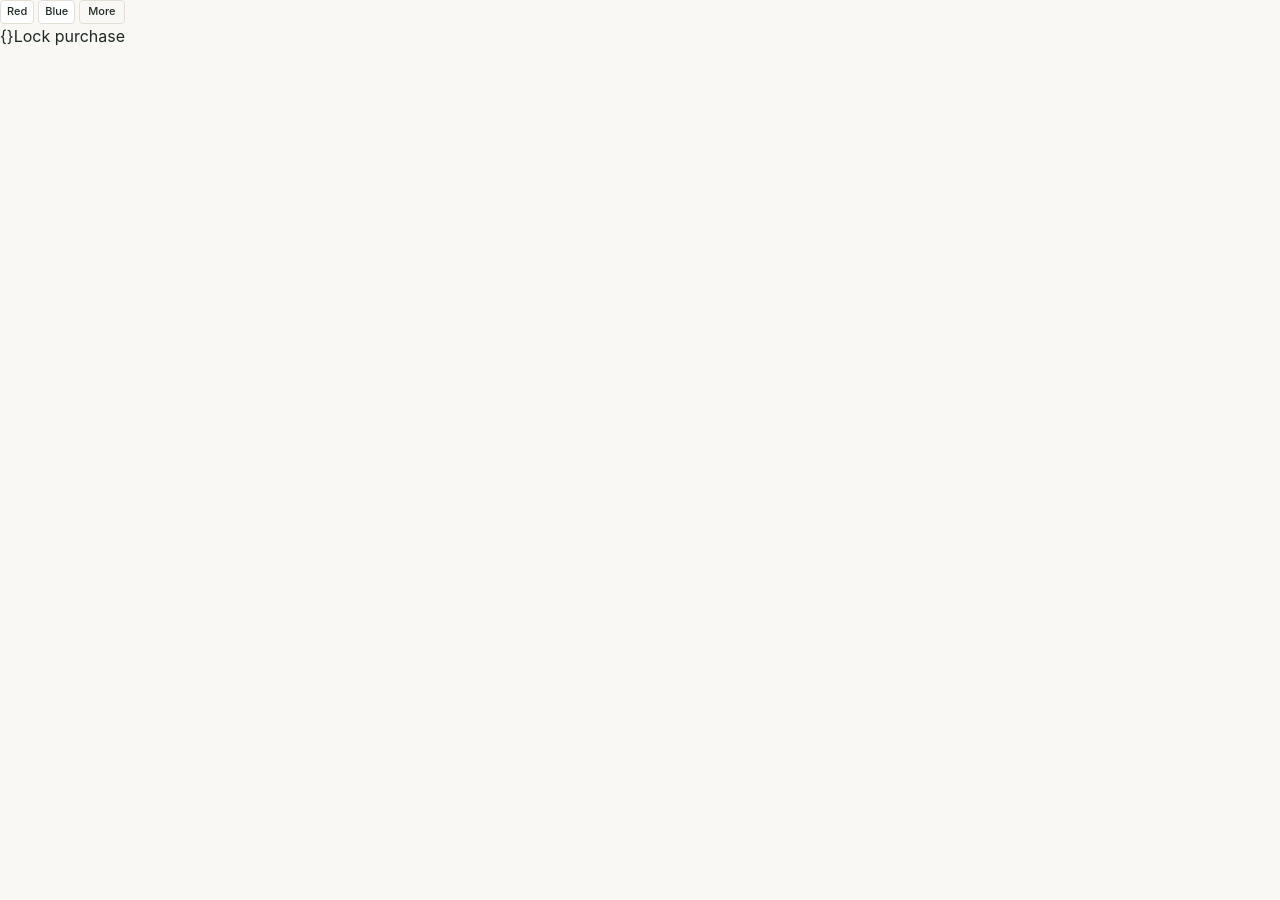
Test: ProductCardVariantSelector › compact: keeps both dimensions selectable in More without guessing a SKU
Click the button with aria-label "More options" at [102, 12], box [79,0,124,24]
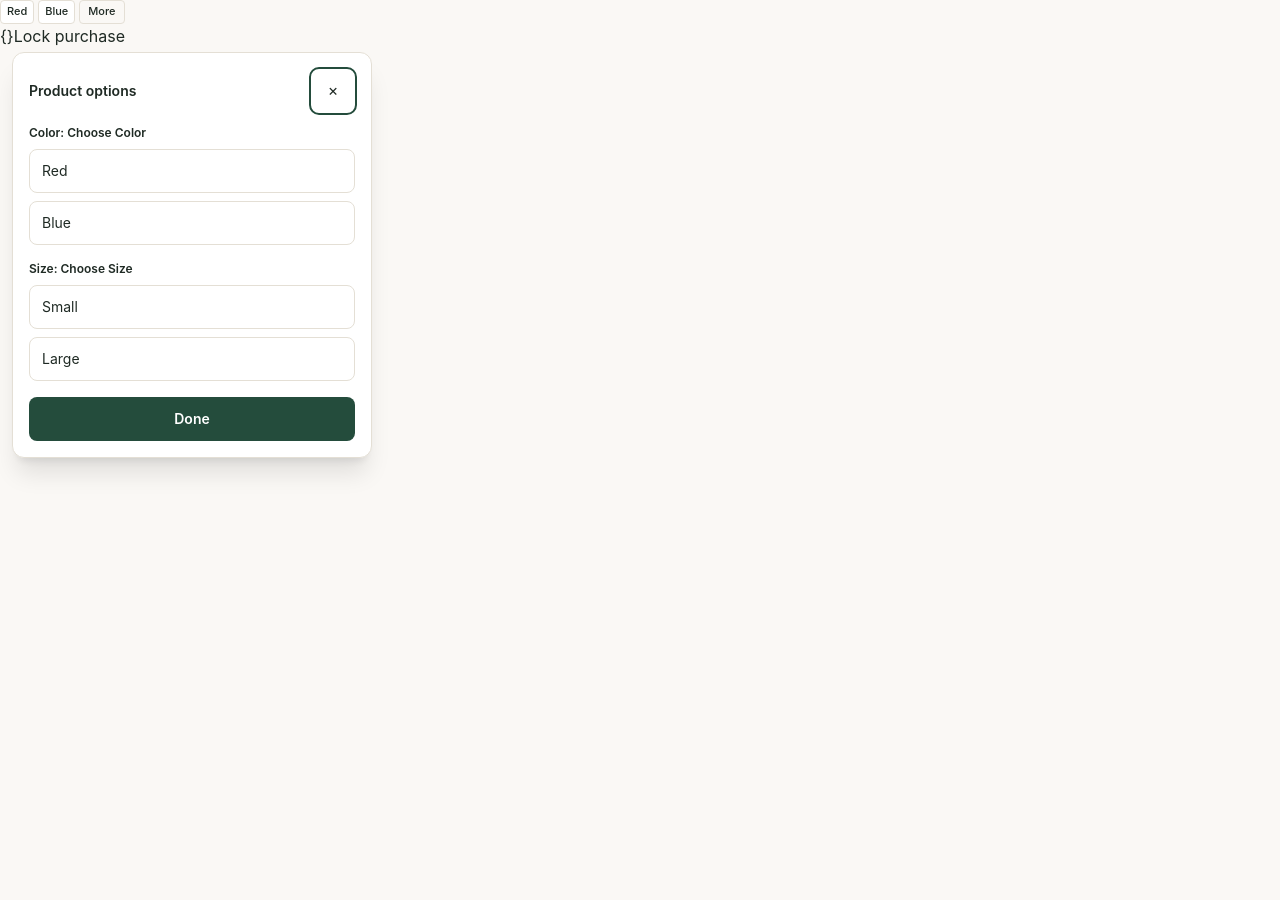
Click the button "Red" at [55, 170], box [29,149,355,193]
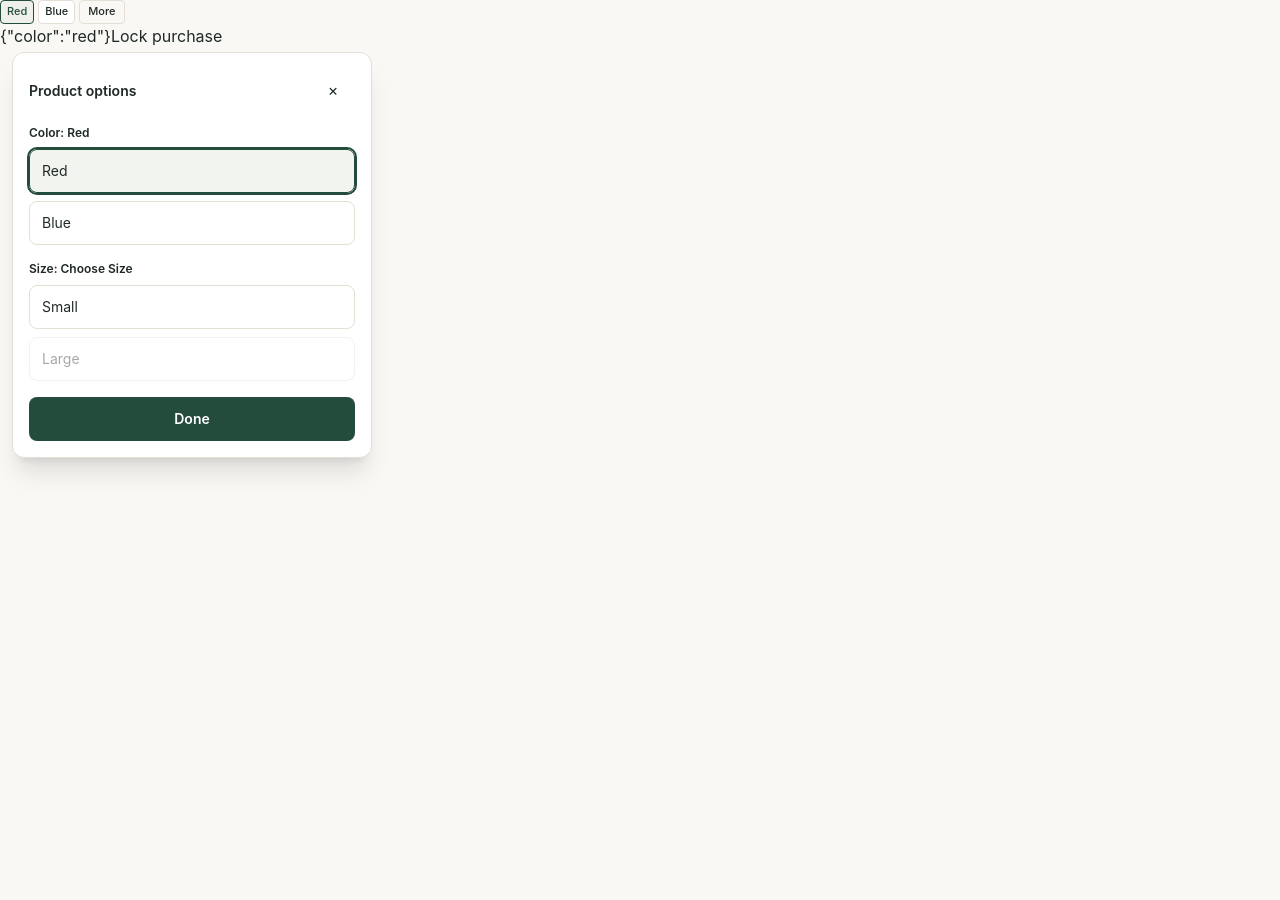
Result: the text with test id "selection" reads "{\"color\":\"red\"}" at [0,26,111,46]
Result: the button "Large" is disabled at [29,337,355,381]
Click the button "Small" at [60, 306], box [29,285,355,329]
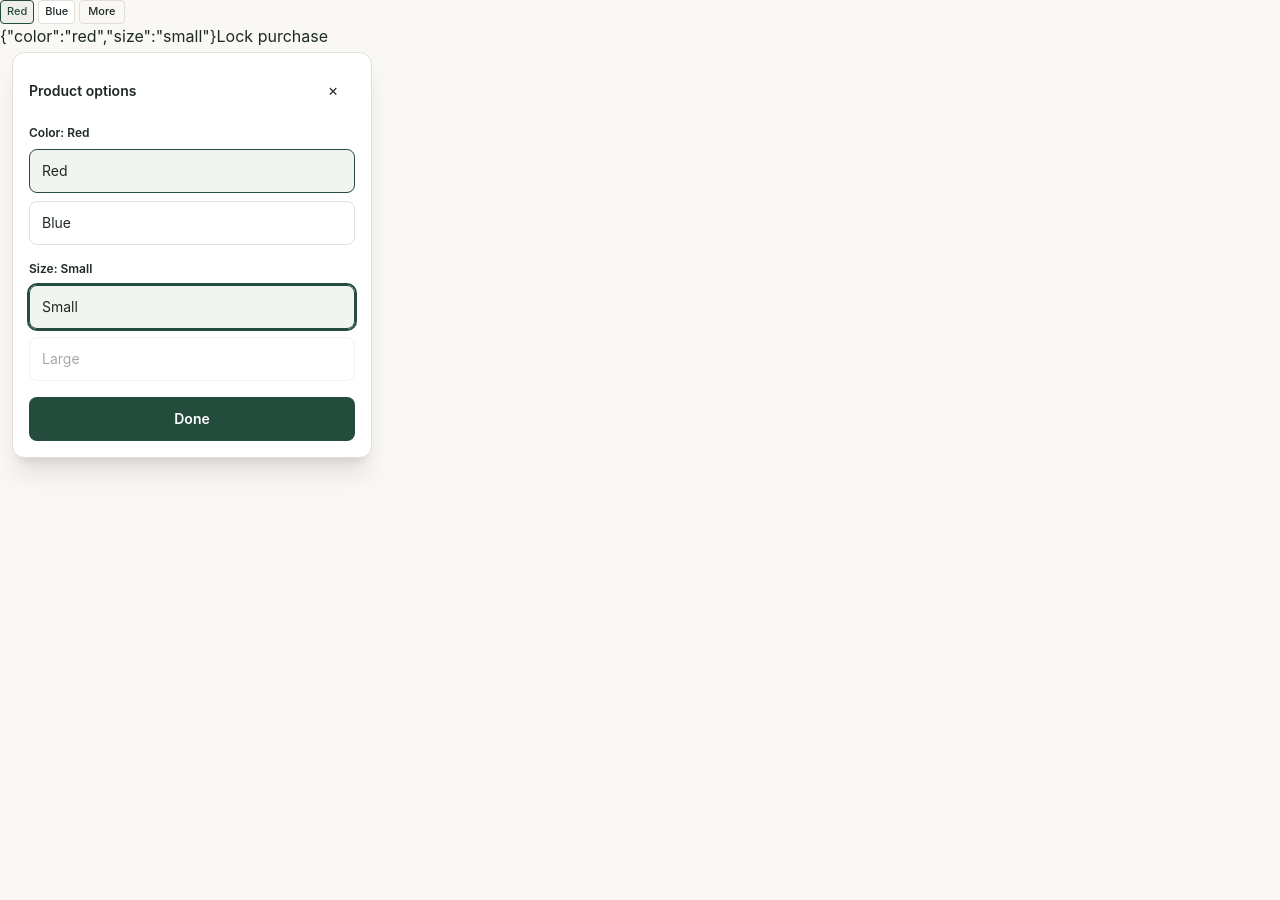
Result: the text with test id "selection" reads "{\"color\":\"red\",\"size\":\"small\"}" at [0,26,217,46]
Click the button "Done" at [192, 419], box [29,397,355,441]
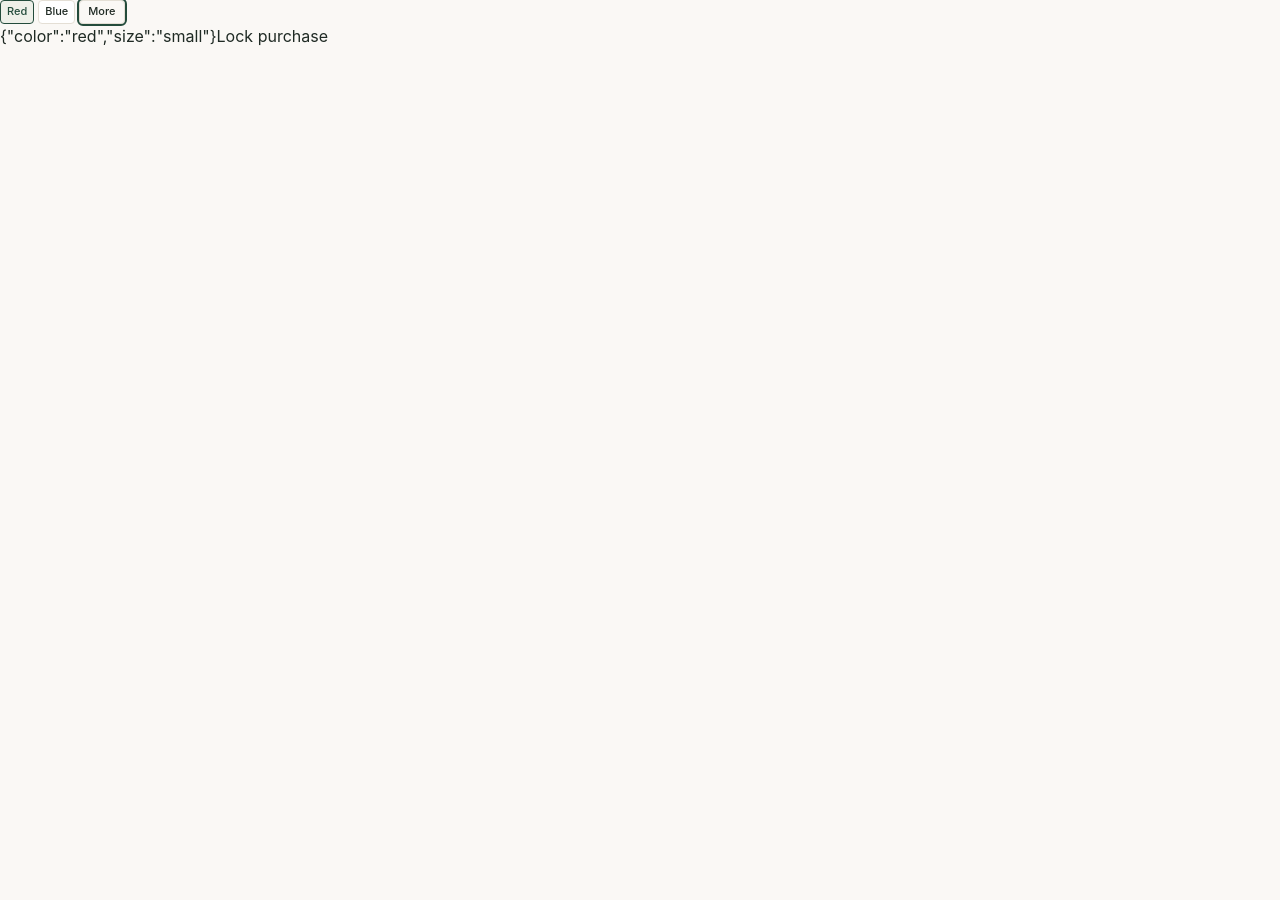
Result: the dialog is gone
